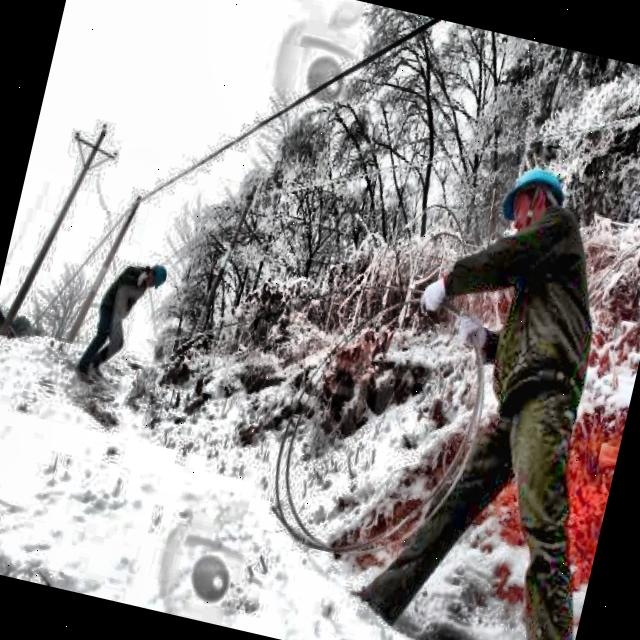helmet: (490, 150, 578, 246), (141, 255, 172, 292)
